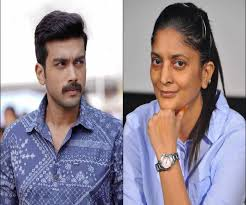No-Glasses: (147, 51, 197, 71), (48, 56, 85, 67)
